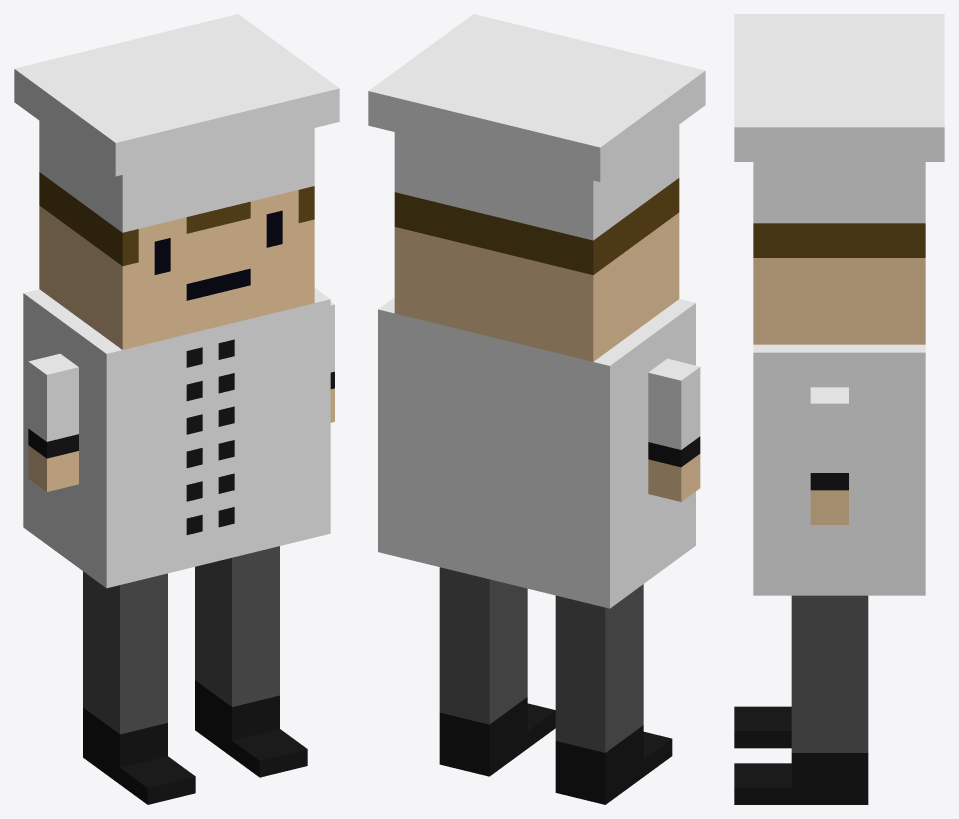
The model's file is Player23.obj.
3 renders of one model, left to right at view 1: azimuth 30°, elevation 25°; view 2: azimuth 150°, elevation 25°; view 3: azimuth 270°, elevation 25°, orthographic. The views are drawn at different scales.
Parts seen in each view (by area): view 1: Player23; view 2: Player23; view 3: Player23.
Part boxes in pixels (box(x1,y1,x2,y2)): Player23: box(14, 14, 339, 804); Player23: box(368, 14, 705, 804); Player23: box(734, 14, 944, 804).
Bounding box in the file's own units: 18 × 40 × 11.
